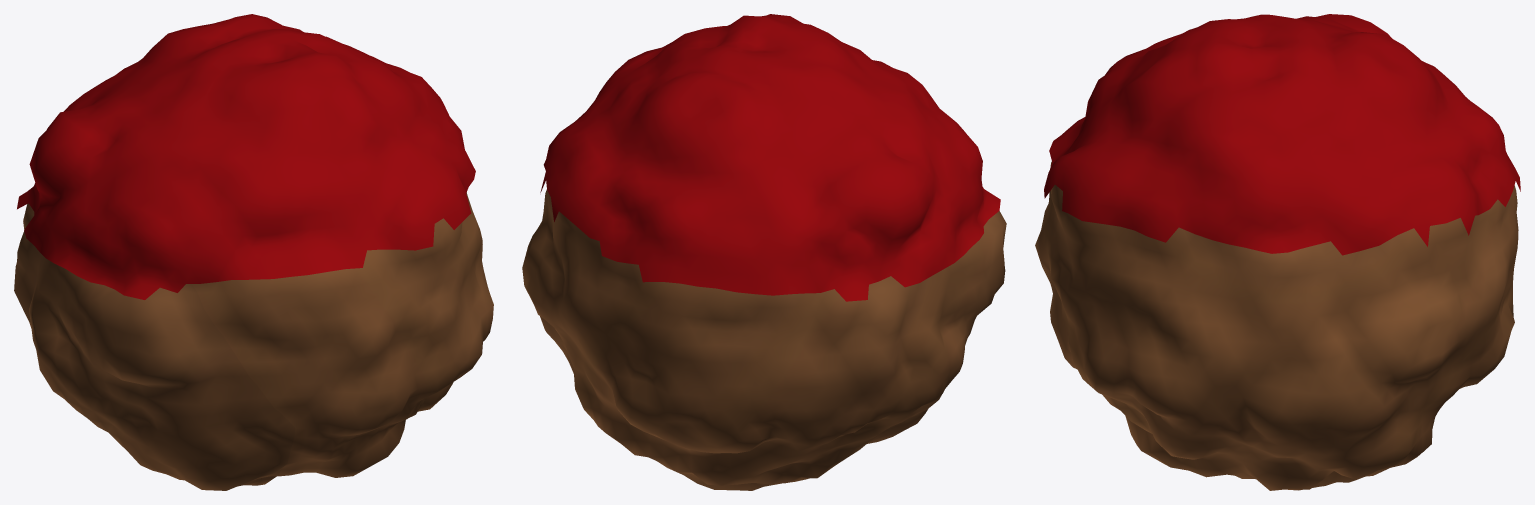
File: MeatBallNotPlayer.glb
The picture shows the model from 3 angles, left to right: view 1: azimuth 30°, elevation 25°; view 2: azimuth 150°, elevation 25°; view 3: azimuth 270°, elevation 25°; orthographic projection. The views are drawn at different scales.
Parts seen in each view (by area): view 1: MeatBall.001, MeatBall; view 2: MeatBall.001, MeatBall; view 3: MeatBall, MeatBall.001.
Part boxes in pixels (box(x1,y1,x2,y2)): MeatBall.001: box(17, 14, 475, 299); MeatBall: box(14, 192, 493, 490); MeatBall.001: box(540, 14, 1000, 301); MeatBall: box(522, 189, 1006, 490); MeatBall: box(1035, 161, 1518, 490); MeatBall.001: box(1044, 14, 1520, 255).
Bounding box in the file's own units: 2.15 × 2.27 × 2.19.
2 materials, 1 textured.
